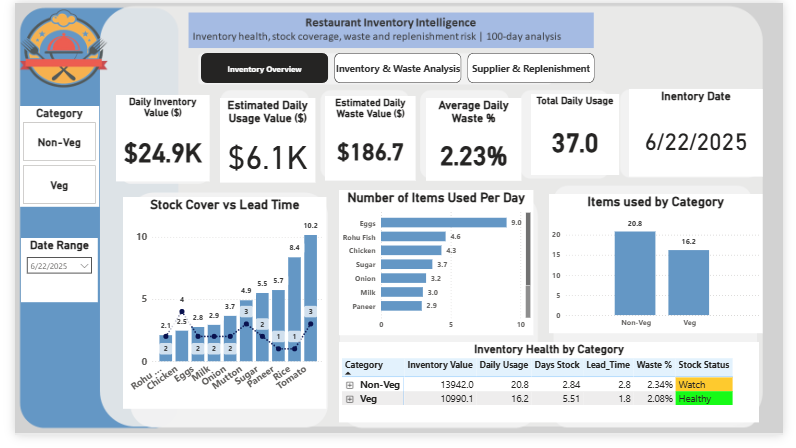

What the dashboard file says about the page in this screenshot:
{"tool":"powerbi","page":{"name":"Inventory Overview","canvas":[1280,720],"ordinal":0},"visuals":[{"type":"card","title":"Daily Inventory Value","fields":{"Values":["_Measure.Current Inventory Value"]},"box":[169,152.8,155.8,144],"z":0},{"type":"card","title":"Items at Replenishment Risk","fields":{"Values":["_Measure.Items With Stock Coverage Risk"]},"box":[863.3,151.7,146.7,135],"z":1000},{"type":"card","title":"Avg. Days of Stock Cover","fields":{"Values":["_Measure.Days of Stock Cover02"]},"box":[520.7,147.8,164.6,142.8],"z":2000},{"type":"card","title":"Average Waste %","fields":{"Values":["_Measure.Average Waste02 %"]},"box":[700,153.3,150,140],"z":3000},{"type":"card","title":"Estimated Daily Waste Value","fields":{"Values":["_Measure.Latest Day Waste Value"]},"box":[336.5,155.8,171.9,141.1],"z":4000},{"type":"advancedSlicerVisual","title":"Category","fields":{"Values":["Fact_Inventory.Category"]},"box":[8.3,171.7,131.7,168.3],"z":5000},{"type":"slicer","title":"Supplier","fields":{"Values":["Fact_Inventory.Supplier_Name"]},"box":[10,581.7,130,93.3],"z":6000},{"type":"clusteredColumnChart","title":"Daily Inventory Value by Category","fields":{"Category":["Fact_Inventory.Category"],"Y":["_Measure.Current Inventory Value"]},"box":[883.6,309.1,356.1,206.6],"z":7000},{"type":"lineClusteredColumnComboChart","title":"Stock Cover vs Lead Time","fields":{"Category":["Fact_Inventory.Item_Name"],"Y":["_Measure.Average Days of Stock Cover"],"Y2":["_Measure.Latest Lead Time"]},"box":[179.7,322.5,339.3,376.3],"z":8000},{"type":"lineChart","title":"Daily Inventory Usage","fields":{"Y":["_Measure.Total Daily Usage"],"Category":["Dim_Date.Date"],"Y2":["_Measure.7-Day Moving Avg"]},"box":[544.3,309.1,324.2,206.6],"z":9000},{"type":"card","title":"Inentory Date","fields":{"Values":["_Measure.Latest Inventory Date"]},"box":[1023,142.8,223.4,146.1],"z":10000},{"type":"pageNavigator","box":[310.8,84,658.5,50.4],"z":11000},{"type":"pivotTable","title":"Inventory Health by Category","fields":{"Rows":["Fact_Inventory.Category","Fact_Inventory.Subcategory"],"Values":["_Measure.Inventory Value","_Measure.Average Daily Usage","_Measure.Days of Stock Cover","Avg(Fact_Inventory.Lead_Time)","_Measure.Average Waste %","_Measure.Inventory Risk"]},"box":[544.3,527.5,700.5,178.1],"z":12000},{"type":"slicer","title":"Date Range","fields":{"Values":["Dim_Date.Date"]},"box":[11.7,375,128.3,151.7],"z":13000}]}

Visuals, with their boxes in screenshot pixels (x1, y1, x2, y2), scaled from the page's 1280x720 canvas onto the 796x448 screenshot:
"Daily Inventory Value" card: (left=105, top=95, right=202, bottom=185)
"Items at Replenishment Risk" card: (left=537, top=94, right=628, bottom=178)
"Avg. Days of Stock Cover" card: (left=324, top=92, right=426, bottom=181)
"Average Waste %" card: (left=435, top=95, right=529, bottom=182)
"Estimated Daily Waste Value" card: (left=209, top=97, right=316, bottom=185)
"Category" advancedSlicerVisual: (left=5, top=107, right=87, bottom=212)
"Supplier" slicer: (left=6, top=362, right=87, bottom=420)
"Daily Inventory Value by Category" clusteredColumnChart: (left=549, top=192, right=771, bottom=321)
"Stock Cover vs Lead Time" lineClusteredColumnComboChart: (left=112, top=201, right=323, bottom=435)
"Daily Inventory Usage" lineChart: (left=338, top=192, right=540, bottom=321)
"Inentory Date" card: (left=636, top=89, right=775, bottom=180)
pageNavigator: (left=193, top=52, right=603, bottom=84)
"Inventory Health by Category" pivotTable: (left=338, top=328, right=774, bottom=439)
"Date Range" slicer: (left=7, top=233, right=87, bottom=328)
